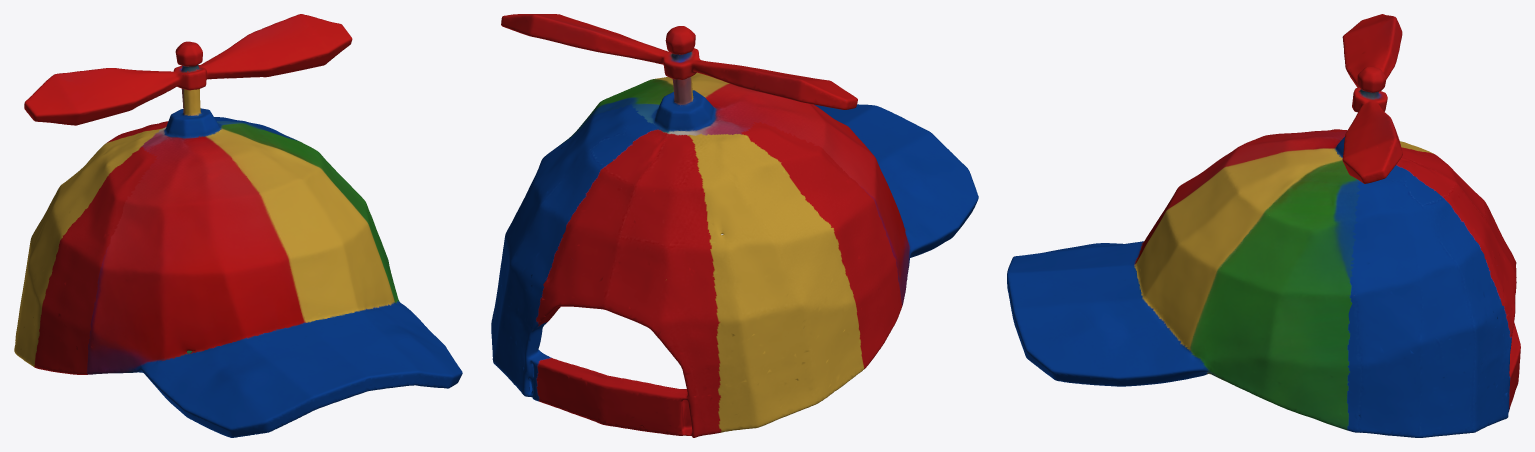
File: jolly_cap.glb
The picture shows the model from 3 angles, left to right: view 1: azimuth 30°, elevation 25°; view 2: azimuth 150°, elevation 25°; view 3: azimuth 270°, elevation 25°; orthographic projection. The views are drawn at different scales.
Visible parts, largest first — view 1: world; view 2: world; view 3: world.
Boxes of the visible parts, x1,y1,x2,y2 form: world: (14, 14, 462, 437); world: (491, 14, 978, 437); world: (1007, 14, 1520, 437).
Size of the model in its own units: 0.7396 by 0.6794 by 1.
1 material, 1 textured.
